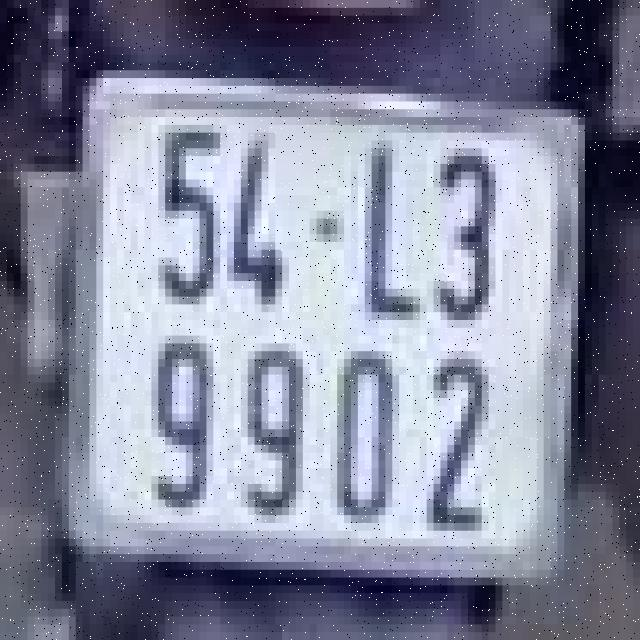0: (327, 336, 402, 530)
2: (419, 344, 488, 538)
3: (437, 144, 506, 324)
4: (227, 125, 296, 304)
5: (145, 113, 227, 308)
9: (227, 328, 310, 538), (131, 320, 213, 507)
L: (344, 132, 427, 328)
